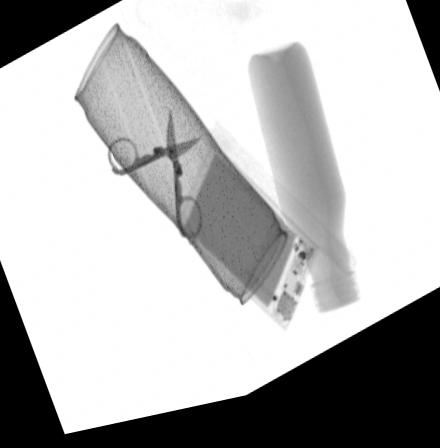Powerbank: (176, 143, 316, 344)
Scissors: (105, 115, 204, 246)
